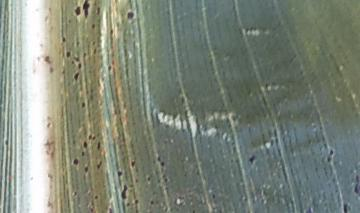tarspot: (350, 172, 360, 197), (325, 145, 336, 167), (71, 2, 84, 19), (82, 1, 93, 21), (245, 150, 259, 165), (120, 181, 130, 202), (339, 197, 351, 213), (124, 9, 136, 22), (114, 167, 126, 179), (57, 34, 70, 45), (104, 26, 117, 37), (70, 70, 83, 81), (63, 48, 74, 60), (70, 156, 82, 167), (83, 160, 91, 176), (103, 62, 114, 73), (208, 189, 218, 201), (94, 156, 103, 169), (95, 4, 103, 18), (86, 205, 100, 213), (128, 157, 138, 168), (94, 140, 105, 150), (143, 174, 154, 184), (76, 99, 88, 108), (103, 205, 116, 213), (75, 59, 84, 70), (131, 176, 142, 185), (146, 197, 157, 206), (90, 18, 97, 32), (79, 50, 88, 60), (132, 196, 142, 205), (154, 152, 163, 162), (80, 138, 88, 148), (158, 160, 167, 168), (189, 205, 197, 213), (92, 192, 99, 201)
